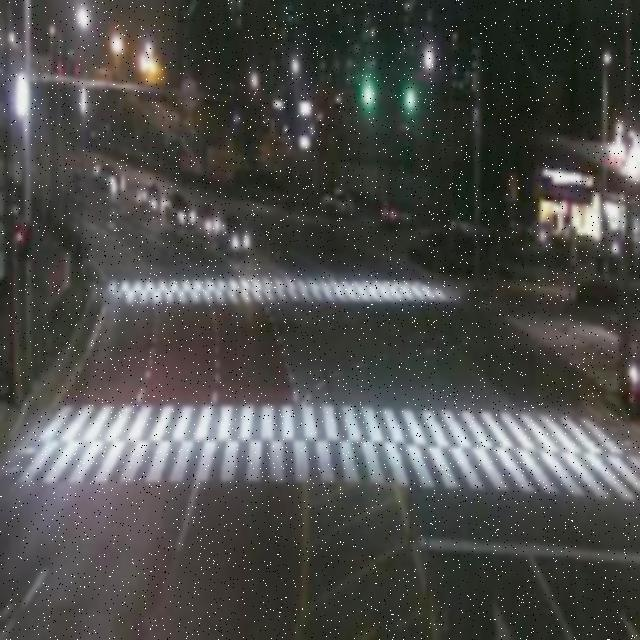crosswalk: (16, 443, 640, 501), (34, 403, 624, 453), (111, 279, 450, 301)
